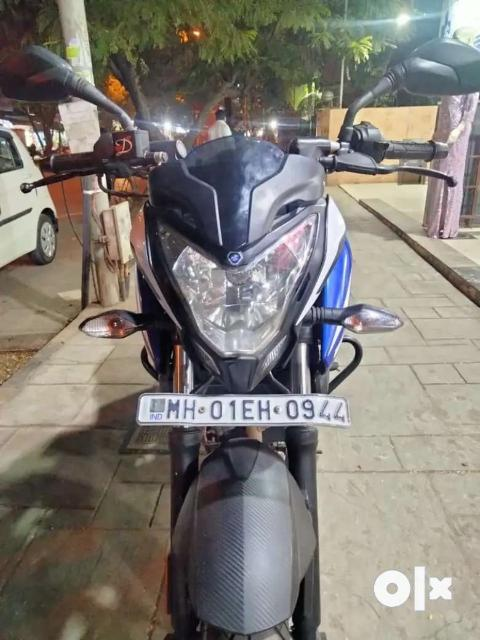Indian_Number_Plate: (142, 395, 349, 425)
